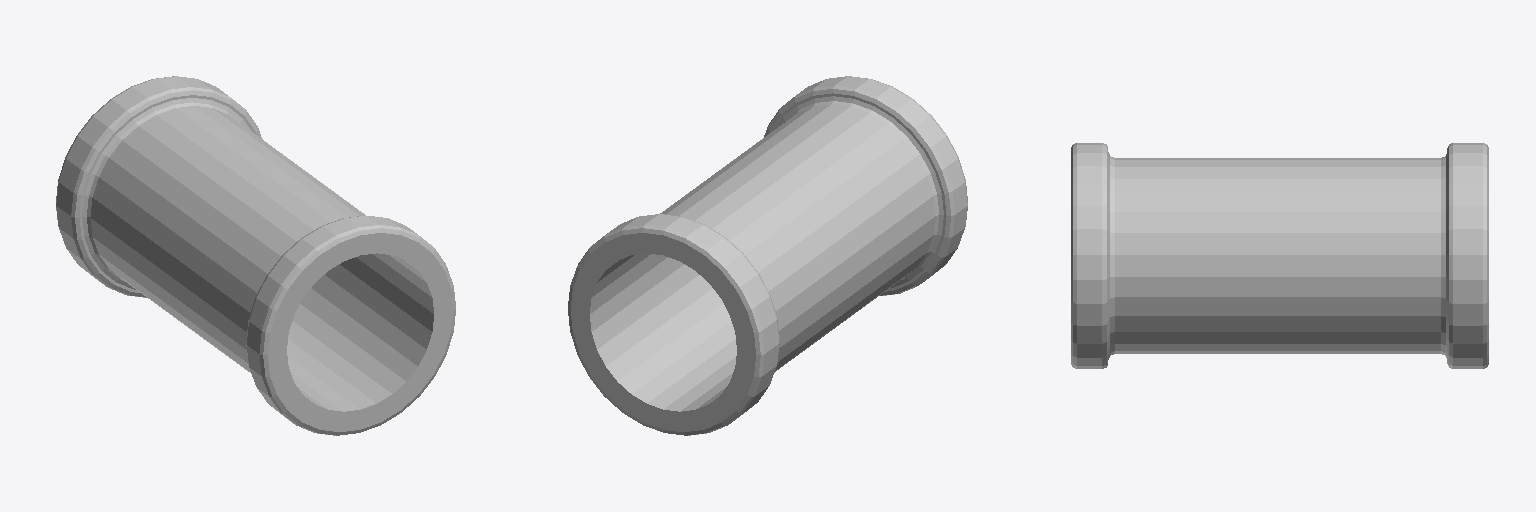
File: SLEEVE2.obj
3 renders of one model, left to right at view 1: azimuth 30°, elevation 25°; view 2: azimuth 150°, elevation 25°; view 3: azimuth 270°, elevation 25°, orthographic.
Visible parts, largest first — view 1: SLEEVE2; view 2: SLEEVE2; view 3: SLEEVE2.
Boxes of the visible parts, x1=… form: SLEEVE2: x1=56, y1=76, x2=455, y2=435; SLEEVE2: x1=568, y1=76, x2=967, y2=435; SLEEVE2: x1=1071, y1=143, x2=1488, y2=368.
Bounding box in the file's own units: 0.6659 × 0.6659 × 1.23.